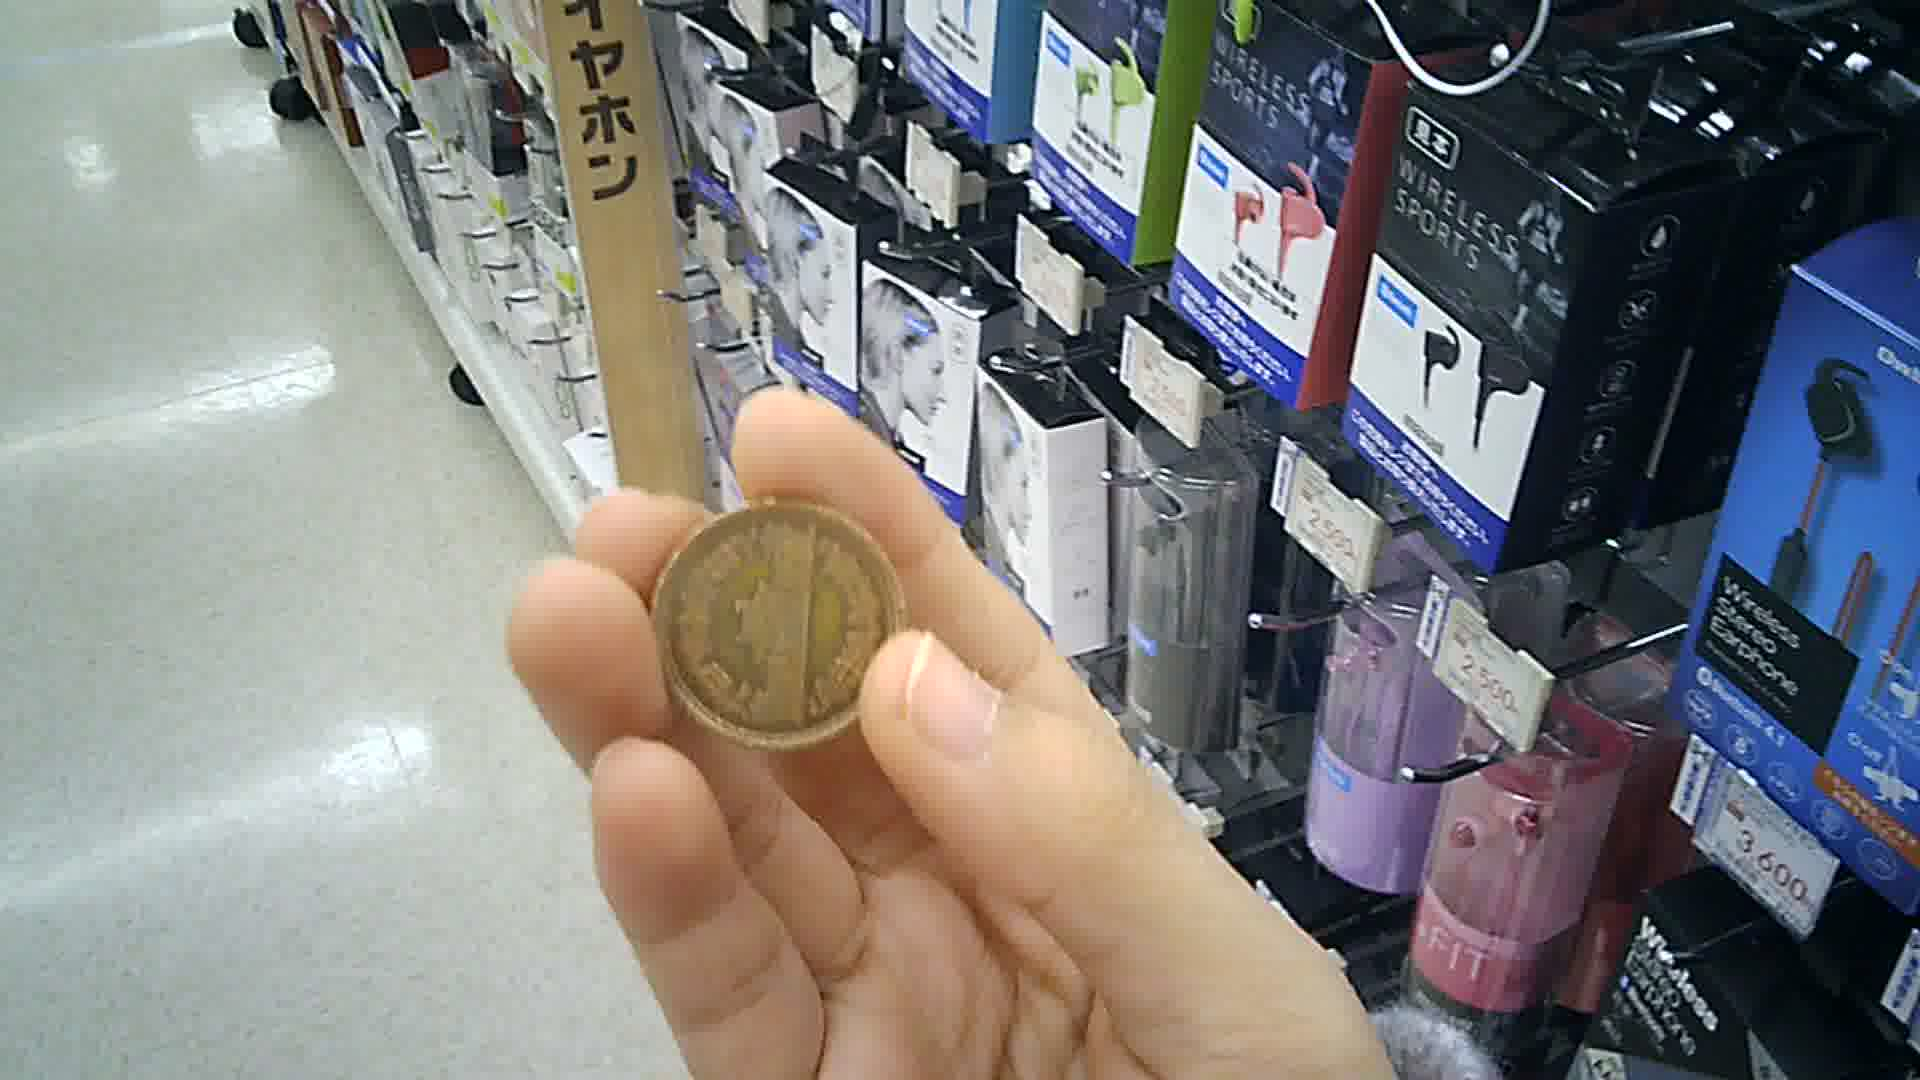10 Yen: (646, 501, 901, 732)
